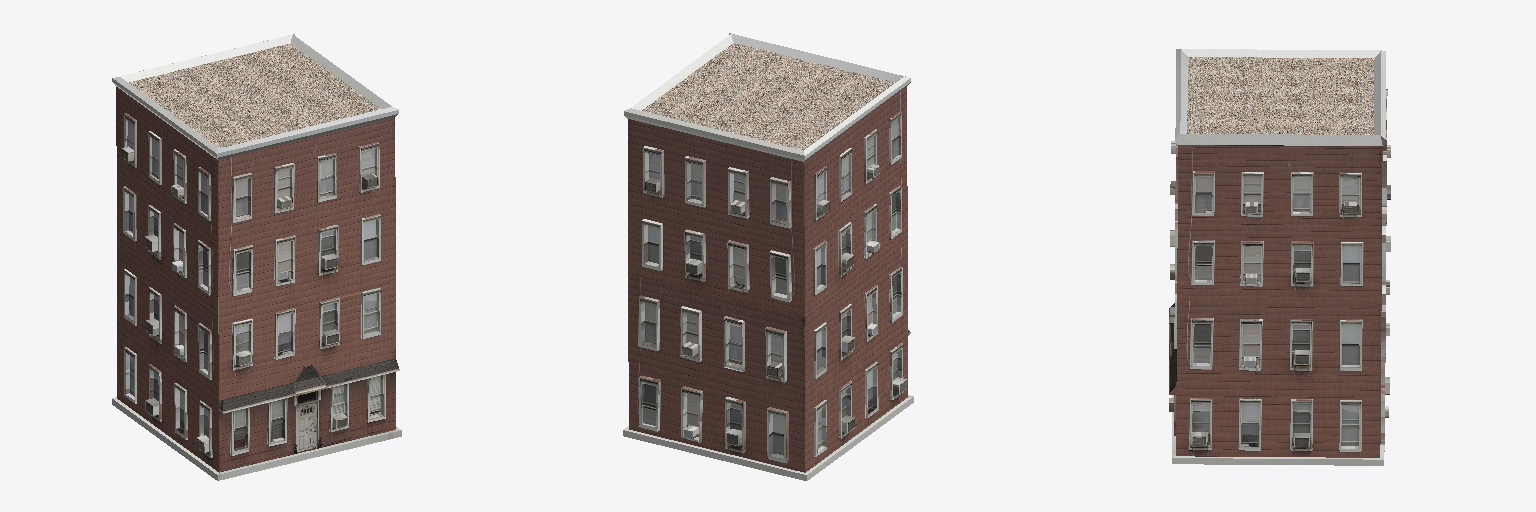
3 renders of one model, left to right at view 1: azimuth 30°, elevation 25°; view 2: azimuth 150°, elevation 25°; view 3: azimuth 270°, elevation 25°, orthographic.
Visible parts, largest first — view 1: Material_001-material, Material-material; view 2: Material_001-material, Material-material; view 3: Material_001-material, Material-material.
Boxes of the visible parts, x1=… form: Material_001-material: x1=112, y1=34, x2=401, y2=480; Material-material: x1=129, y1=43, x2=379, y2=147; Material_001-material: x1=623, y1=33, x2=913, y2=480; Material-material: x1=642, y1=43, x2=894, y2=149; Material_001-material: x1=1169, y1=49, x2=1390, y2=465; Material-material: x1=1187, y1=57, x2=1374, y2=134.
Bounding box in the file's own units: 6.6 × 10.9 × 6.68.
2 materials, 2 textured.